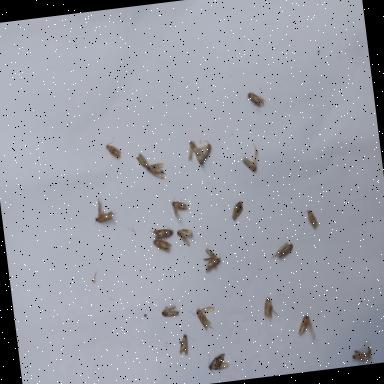pbw: (188, 306, 218, 332), (90, 194, 114, 223), (201, 245, 224, 271), (206, 352, 230, 376), (168, 194, 190, 220), (295, 313, 316, 339), (148, 222, 175, 242), (239, 148, 260, 173), (268, 240, 294, 260), (262, 294, 280, 322), (301, 208, 320, 234), (176, 332, 196, 356), (244, 88, 266, 108), (176, 227, 194, 249), (151, 237, 173, 254), (185, 140, 201, 162), (104, 142, 122, 161), (229, 199, 244, 220), (198, 142, 212, 164), (350, 348, 372, 362), (160, 302, 180, 317)
